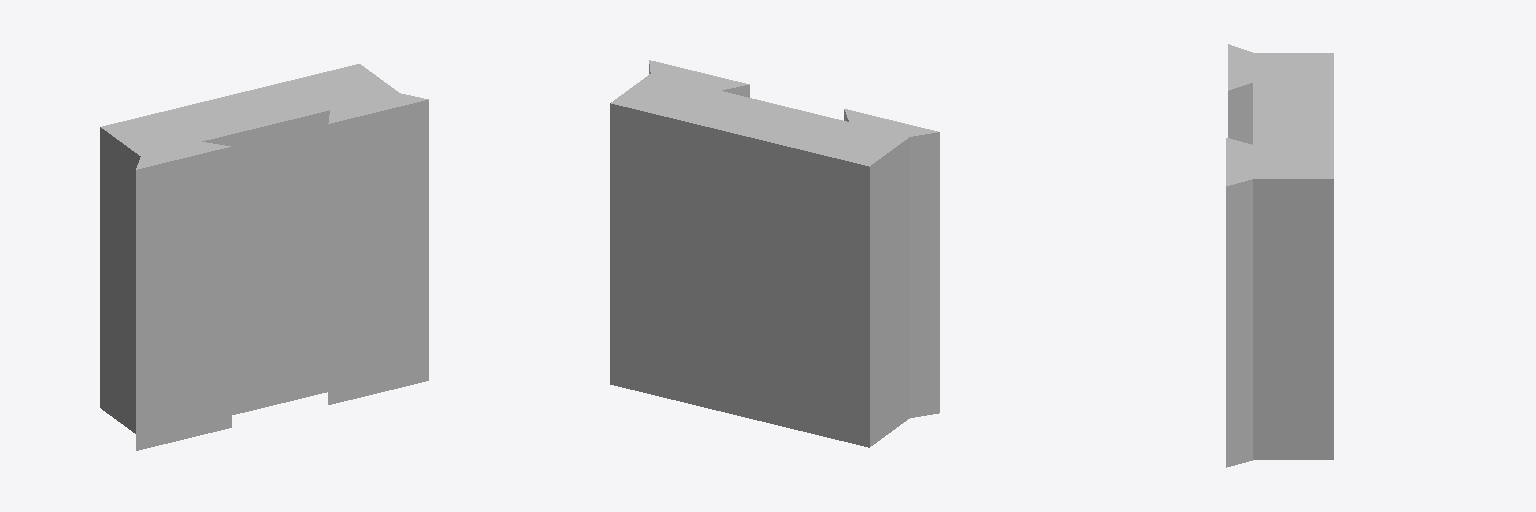
The model's file is building2.obj.
3 views of the same model, side by side, from view 1: azimuth 30°, elevation 25°; view 2: azimuth 150°, elevation 25°; view 3: azimuth 270°, elevation 25° (orthographic).
Parts seen in each view (by area): view 1: Cube.002; view 2: Cube.002; view 3: Cube.002.
Part boxes in pixels (bbox=[...]): Cube.002: bbox=[100, 64, 428, 450]; Cube.002: bbox=[610, 60, 939, 447]; Cube.002: bbox=[1226, 44, 1333, 467].
Bounding box in the file's own units: 8.34 × 7.67 × 2.68.